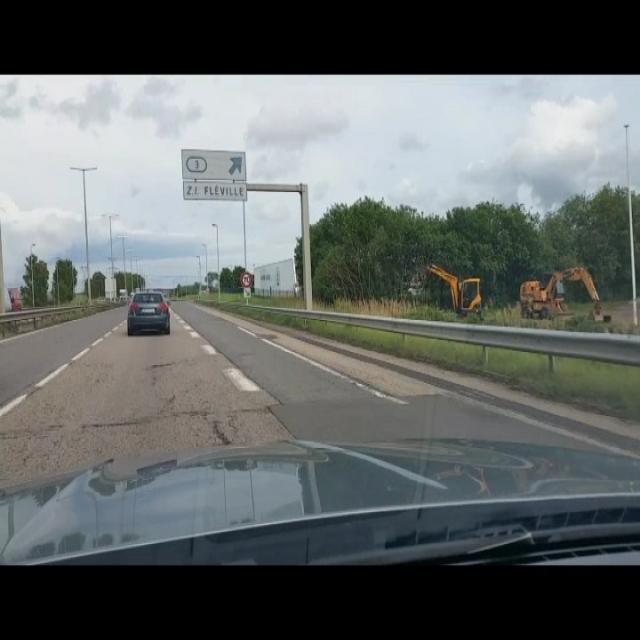direction: (182, 147, 247, 199)
side_right: (244, 288, 251, 297)
speed_70: (241, 272, 253, 287)
